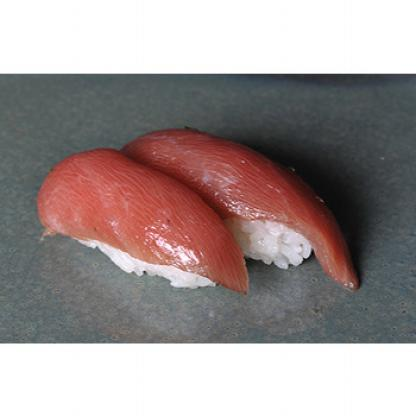toro: (34, 135, 255, 302)
